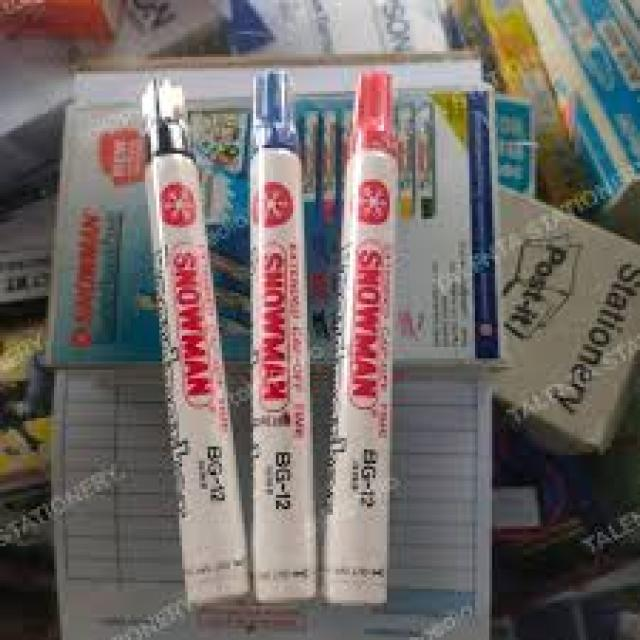marker: (144, 80, 244, 609), (337, 69, 392, 604)
